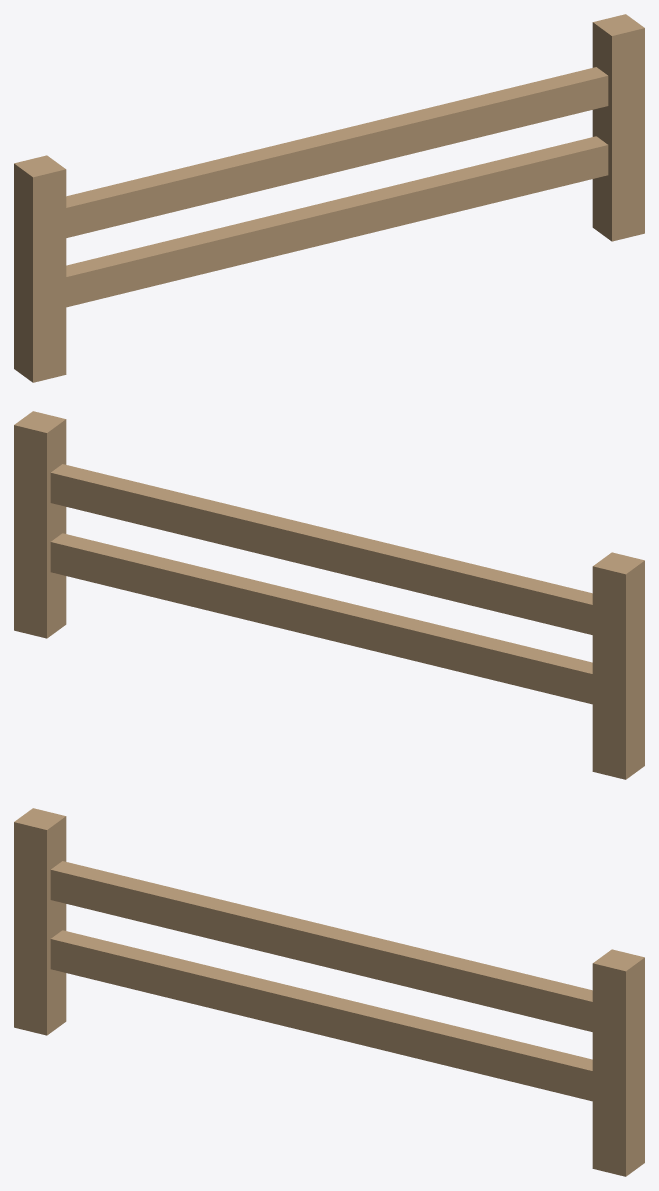
The model's file is fence.glb.
3 views of the same model, one above another, from view 1: azimuth 30°, elevation 25°; view 2: azimuth 150°, elevation 25°; view 3: azimuth 330°, elevation 25° (orthographic).
Visible parts, largest first — view 1: FcRail1, FcRail2, FcPost, FcPost.001; view 2: FcRail1, FcRail2, FcPost, FcPost.001; view 3: FcRail1, FcRail2, FcPost.001, FcPost.
Boxes of the visible parts, x1=… form: FcRail1: x1=66, y1=67, x2=608, y2=237; FcRail2: x1=66, y1=136, x2=608, y2=307; FcPost: x1=14, y1=155, x2=66, y2=382; FcPost.001: x1=592, y1=14, x2=644, y2=241; FcRail1: x1=50, y1=464, x2=592, y2=634; FcRail2: x1=50, y1=533, x2=592, y2=704; FcPost: x1=592, y1=552, x2=644, y2=779; FcPost.001: x1=14, y1=411, x2=66, y2=638; FcRail1: x1=50, y1=861, x2=592, y2=1031; FcRail2: x1=50, y1=930, x2=592, y2=1101; FcPost.001: x1=592, y1=949, x2=644, y2=1176; FcPost: x1=14, y1=808, x2=66, y2=1035.
Size of the model in its own units: 2.96 by 0.95 by 0.16.
